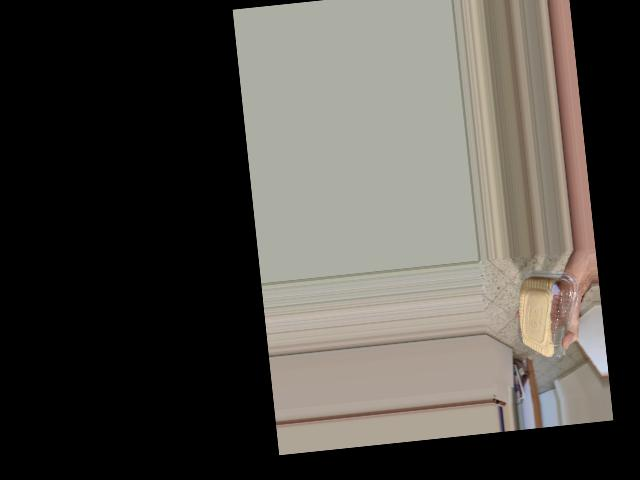cheese: (521, 263, 566, 341)
